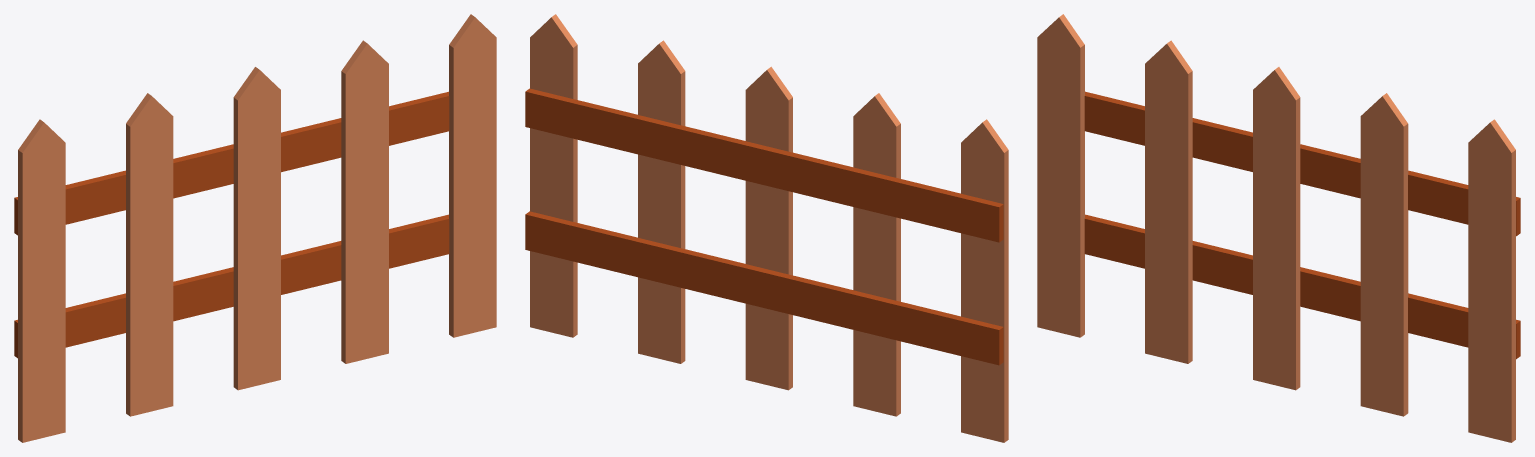
The model's file is Valla.fbx.
3 views of the same model, side by side, from view 1: azimuth 30°, elevation 25°; view 2: azimuth 150°, elevation 25°; view 3: azimuth 330°, elevation 25° (orthographic).
Parts seen in each view (by area): view 1: Cube.001, Cube.002, Cube.003; view 2: Cube.001, Cube.002, Cube.003; view 3: Cube.001, Cube.003, Cube.002.
Boxes of the visible parts, x1,y1,x2,y2 form: Cube.001: (18,14,496,442); Cube.002: (14,91,449,235); Cube.003: (14,214,449,358); Cube.001: (530,14,1008,442); Cube.002: (525,88,1003,242); Cube.003: (525,211,1003,365); Cube.001: (1037,14,1515,442); Cube.003: (1084,214,1520,359); Cube.002: (1084,91,1520,236).
Size of the model in its own units: 133 by 84.61 by 4.26.
